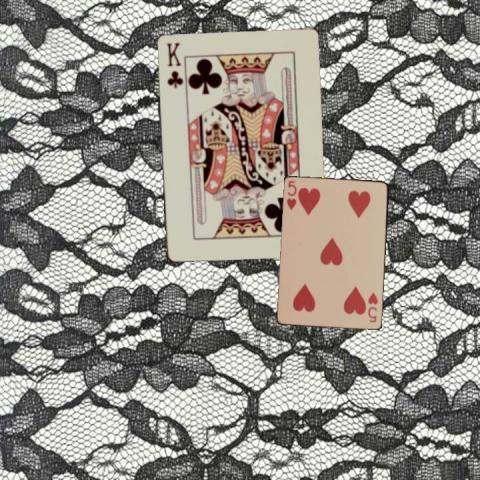5h: (284, 178, 298, 211), (366, 289, 379, 324)
Kc: (164, 39, 184, 90)
